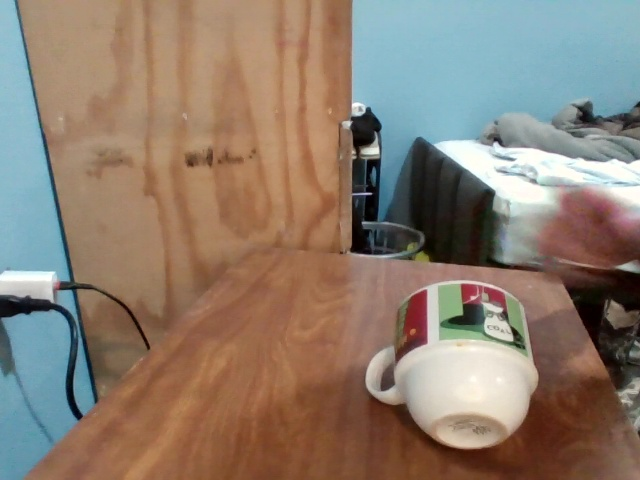taza: (363, 279, 538, 450)
